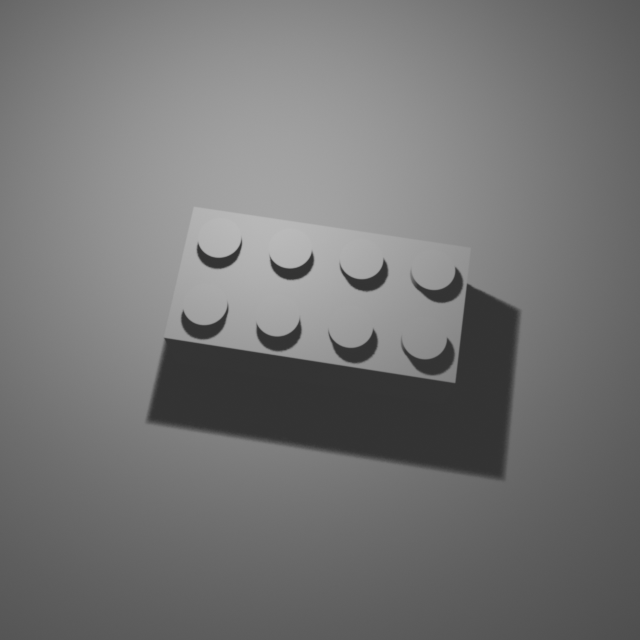lego_2x4: (161, 200, 473, 404)
